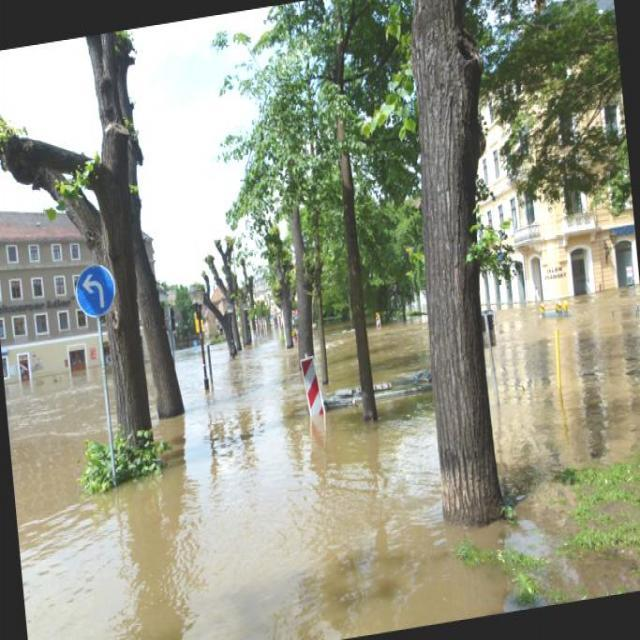flood: (1, 260, 639, 639)
